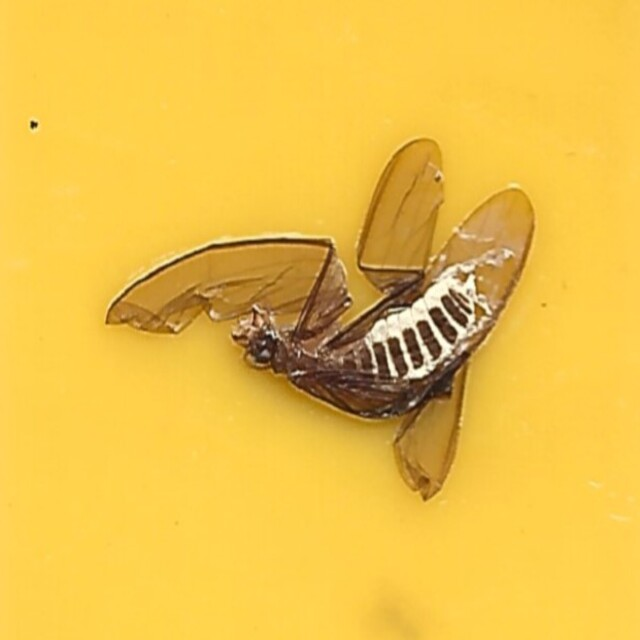Isoptera: (103, 132, 537, 508)
